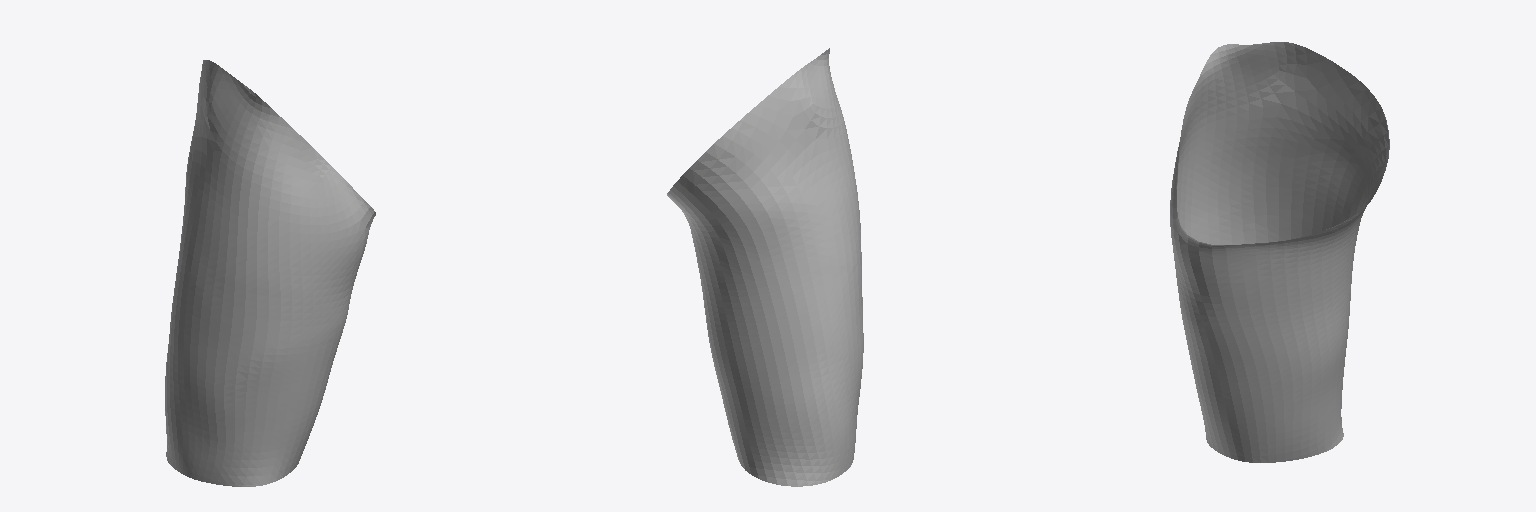
Rendered from coapsaD.obj.
3 renders of one model, left to right at view 1: azimuth 30°, elevation 25°; view 2: azimuth 150°, elevation 25°; view 3: azimuth 270°, elevation 25°, orthographic.
Visible parts, largest first — view 1: coapsaD; view 2: coapsaD; view 3: coapsaD.
Part boxes in pixels (left/top/right/bottom): coapsaD: left=165, top=60, right=375, bottom=486; coapsaD: left=667, top=48, right=863, bottom=486; coapsaD: left=1170, top=42, right=1389, bottom=462.
Size of the model in its own units: 2.21 by 5.17 by 2.61.